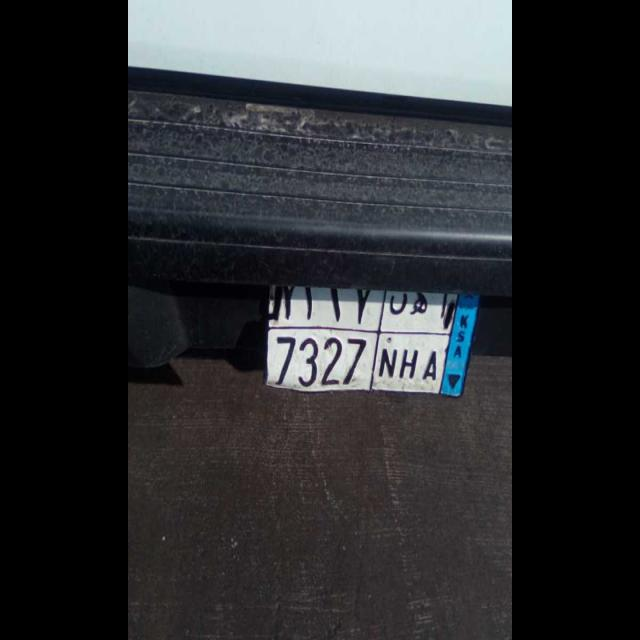license_plate: (269, 325, 447, 406)
